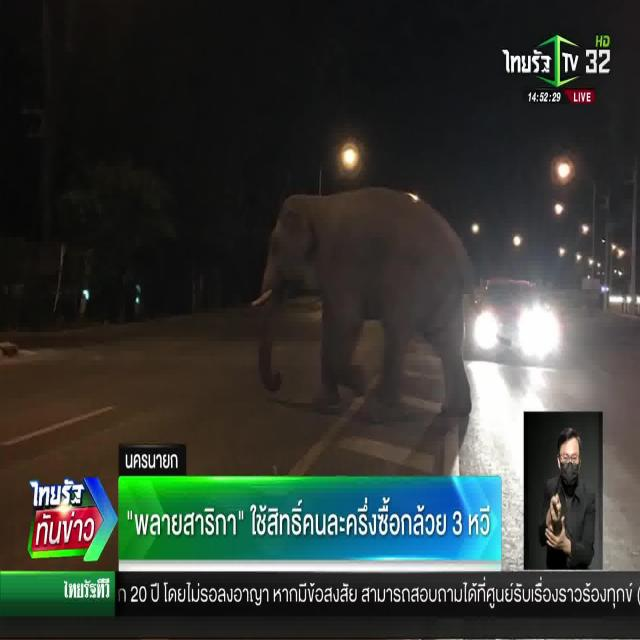Elephant: (252, 176, 472, 408)
